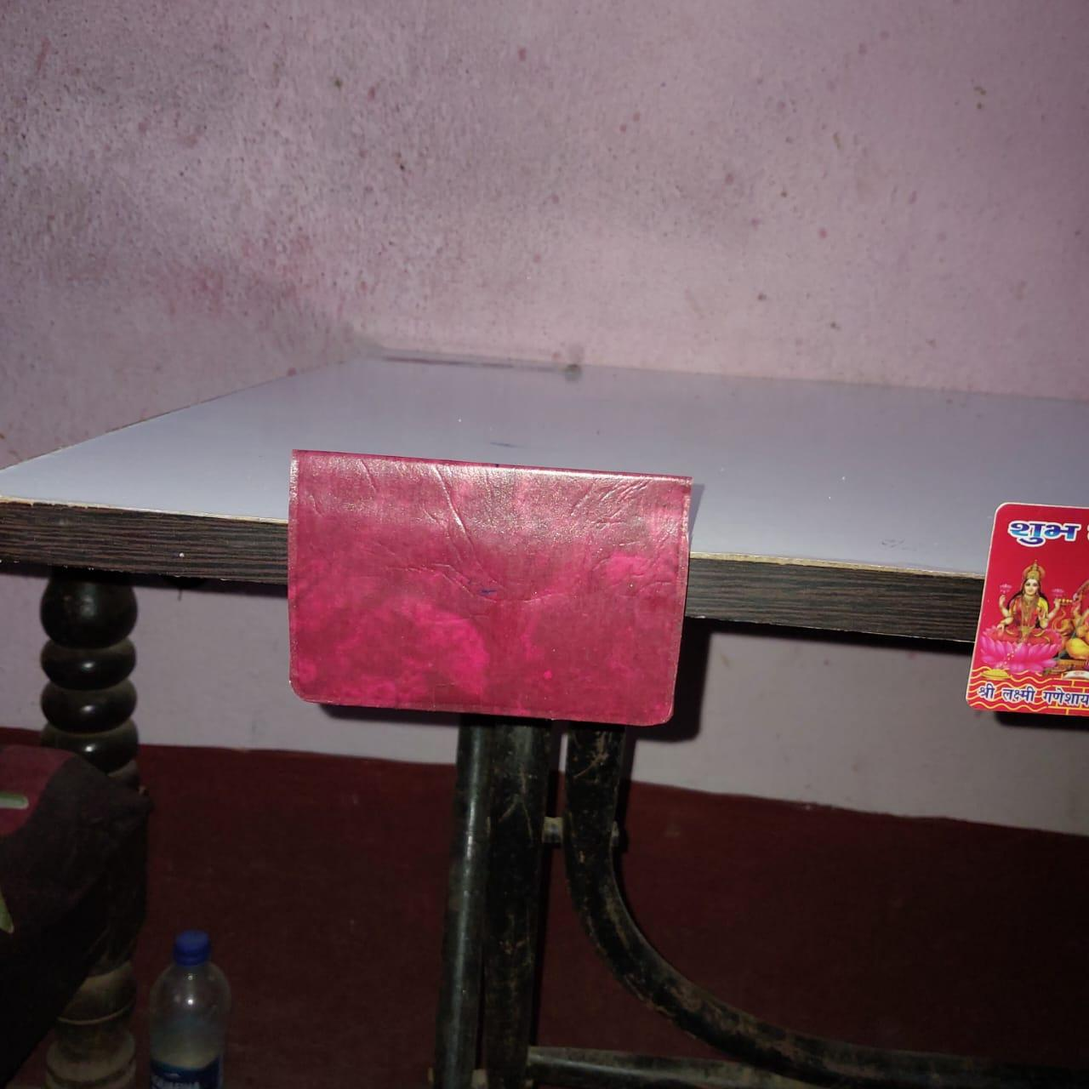blessing_card: (972, 495, 1089, 721)
wallet: (289, 458, 687, 726)
